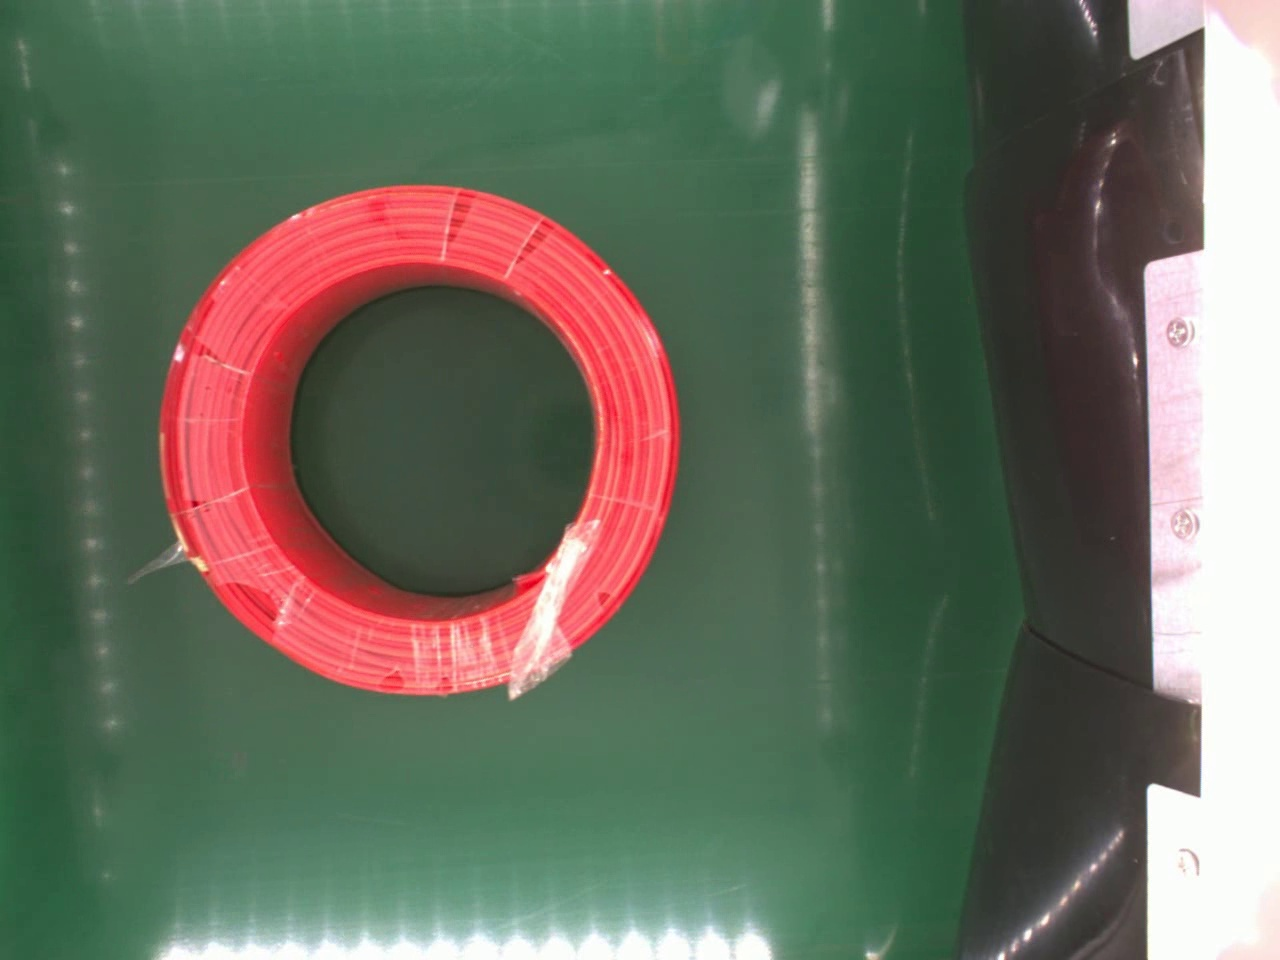red: (154, 181, 677, 699)
